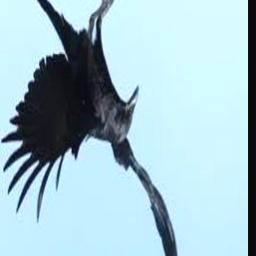Crow: (1, 0, 180, 256)
